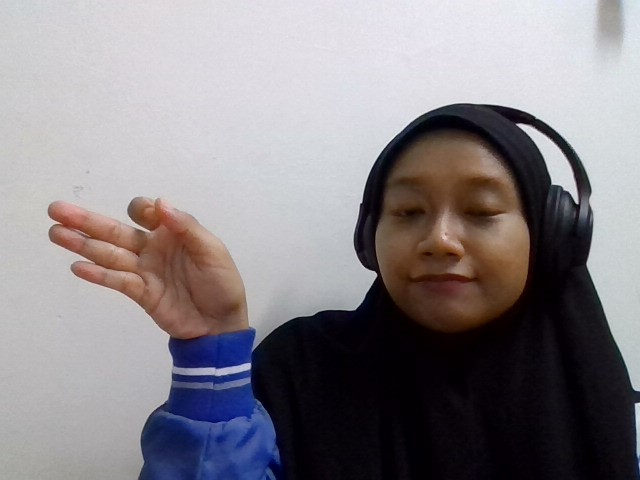Angsa: (49, 194, 247, 338)
